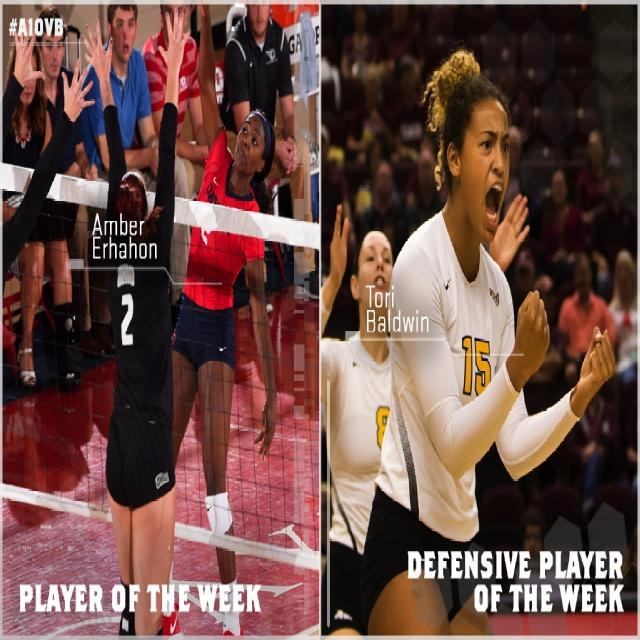body: (358, 41, 620, 639), (320, 184, 529, 636), (71, 3, 193, 639), (170, 5, 278, 639), (78, 4, 190, 334), (216, 0, 322, 312), (1, 32, 74, 389), (140, 3, 211, 330), (35, 7, 99, 359), (3, 30, 97, 268), (326, 15, 428, 216), (512, 15, 632, 161), (500, 487, 632, 598), (556, 252, 618, 378), (572, 128, 616, 264), (538, 164, 584, 268), (606, 249, 638, 357)
